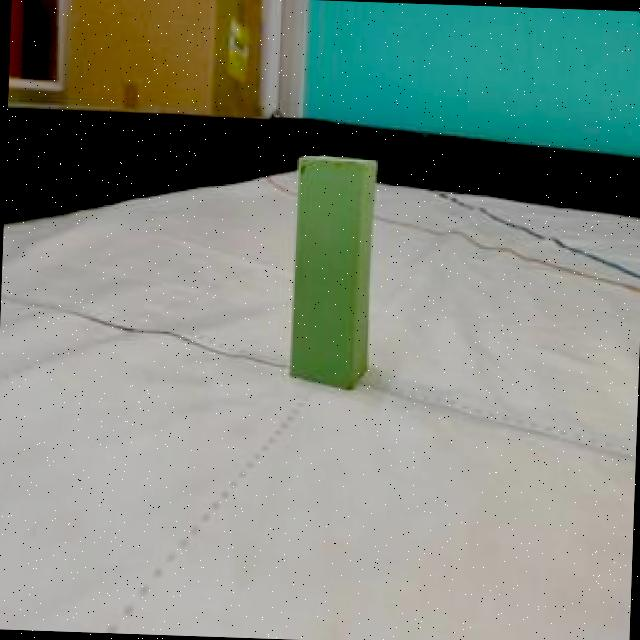greenbox: (290, 156, 378, 385)
